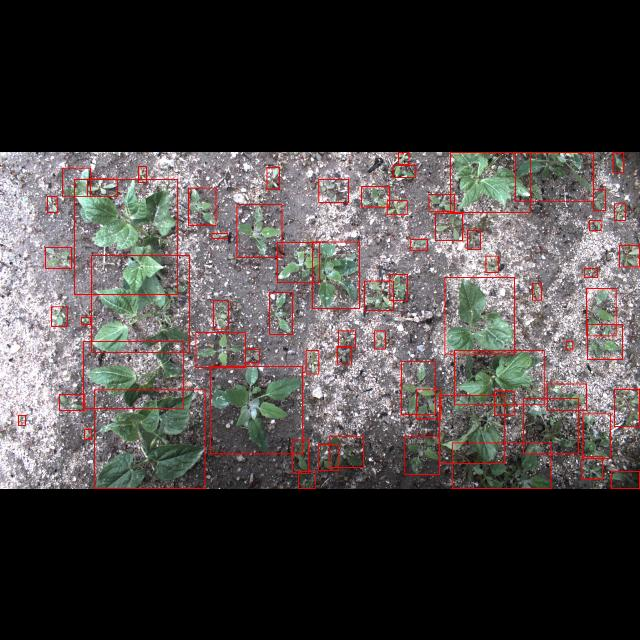crop: (74, 178, 178, 294), (94, 389, 206, 488), (92, 255, 190, 352), (83, 340, 183, 408), (445, 276, 515, 354), (454, 350, 544, 404), (450, 151, 530, 211), (440, 394, 504, 464)
weed: (210, 366, 302, 454), (452, 442, 550, 488), (515, 152, 593, 200), (312, 242, 360, 308), (524, 398, 578, 454), (236, 203, 282, 257), (400, 362, 436, 414), (196, 332, 246, 368), (276, 242, 320, 282), (586, 287, 616, 335), (404, 436, 440, 474), (583, 414, 611, 458), (588, 324, 622, 358), (329, 435, 363, 467), (188, 188, 216, 225), (614, 389, 640, 427), (548, 384, 586, 410), (270, 292, 292, 334), (364, 280, 394, 310), (435, 212, 463, 240), (62, 167, 90, 195), (416, 389, 442, 418), (319, 178, 349, 202), (361, 186, 389, 207), (45, 246, 71, 268), (292, 439, 308, 473), (87, 178, 117, 196), (318, 444, 338, 470), (494, 391, 514, 415), (390, 274, 408, 300), (582, 456, 602, 479), (611, 472, 639, 488), (619, 244, 639, 266), (430, 193, 454, 210), (214, 300, 228, 328), (60, 394, 84, 410), (51, 306, 67, 326), (266, 166, 280, 188), (306, 350, 318, 374), (392, 164, 416, 176), (338, 330, 356, 346), (298, 472, 316, 488), (387, 200, 407, 214), (593, 188, 605, 210), (337, 346, 351, 364), (468, 229, 480, 249), (244, 348, 260, 362), (374, 330, 386, 348), (410, 238, 428, 250), (614, 202, 626, 220), (613, 151, 623, 171), (486, 255, 498, 271), (532, 283, 542, 299), (47, 196, 57, 212), (138, 166, 146, 182), (589, 220, 601, 230), (399, 151, 409, 163), (584, 268, 598, 276), (212, 232, 228, 238), (18, 415, 26, 425), (85, 429, 92, 439), (82, 316, 90, 324), (566, 340, 572, 350)
